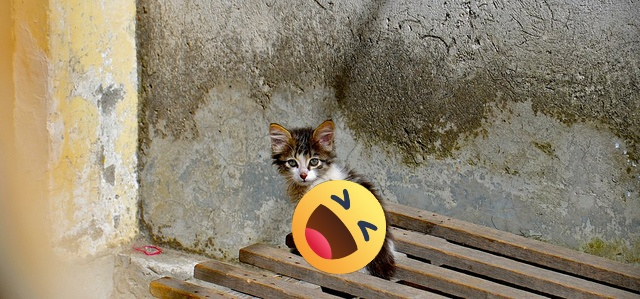haha: (292, 180, 386, 274)
